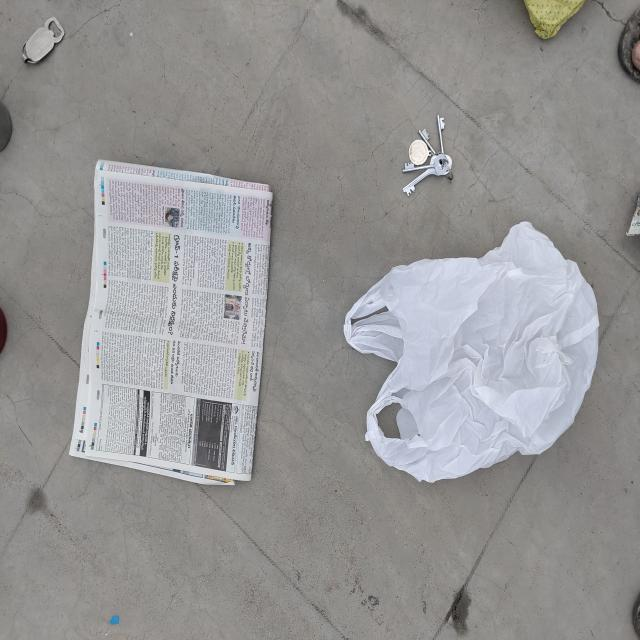metal: (373, 107, 476, 200), (19, 16, 92, 84)
paper: (72, 160, 270, 488)
plastic: (348, 210, 598, 520)
